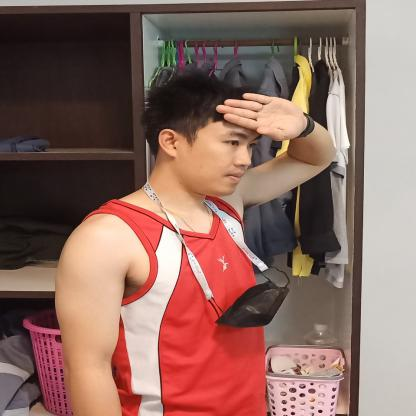Sick: (130, 69, 350, 157)
